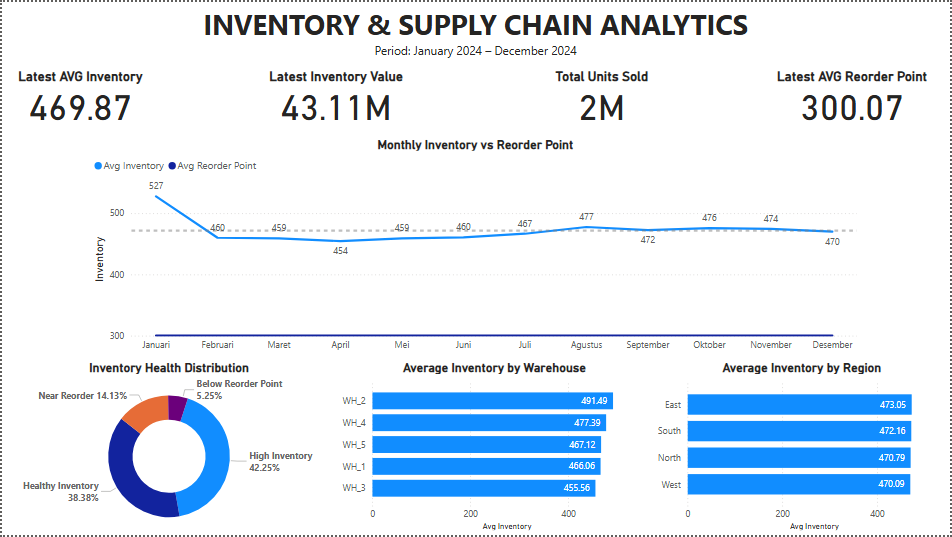

What the dashboard file says about the page in this screenshot:
{"tool":"powerbi","page":{"name":"Inventory Overview","canvas":[1280,720],"ordinal":0},"visuals":[{"type":"textbox","box":[0,0,1280,83],"z":0},{"type":"card","title":"Latest AVG Inventory","fields":{"Values":["retail_sales vw_inventory_summary.Latest AVG Inventory"]},"box":[8.9,72.7,192.9,107.1],"z":1000},{"type":"card","title":"Latest Inventory Value","fields":{"Values":["retail_sales vw_inventory_summary.Latest Inventory Value"]},"box":[334.6,72.7,232.9,107.1],"z":2000},{"type":"card","title":"Total Units Sold","fields":{"Values":["Sum(retail_sales vw_inventory_summary.Total Units Sold)"]},"box":[693.8,72.4,234.9,106.9],"z":3000},{"type":"card","title":"Latest AVG Reorder Point","fields":{"Values":["retail_sales vw_inventory_summary.Latest AVG Reorder Points"]},"box":[1027.1,72.4,243.3,106.9],"z":4000},{"type":"lineChart","title":"Monthly Inventory vs Reorder Point","fields":{"Y":["Avg(retail_sales vw_inventory_summary.AVG Inventory)","Avg(retail_sales vw_inventory_summary.AVG Reorder Points)"],"Category":["retail_sales vw_inventory_summary.Month.Variasi.Hierarki Tanggal.Bulan"]},"box":[118.6,177.1,1041.4,304.3],"z":5000},{"type":"donutChart","title":"Inventory Health Distribution","fields":{"Category":["retail_sales vw_inventory_status.Inventory Status"],"Y":["Sum(retail_sales vw_inventory_status.Jumlah)"]},"box":[0,483.9,451.5,236.3],"z":6000},{"type":"clusteredBarChart","title":"Average Inventory by Warehouse","fields":{"Category":["retail_sales vw_warehouse_summary.Warehouse ID"],"Y":["Avg(retail_sales vw_warehouse_summary.AVG Inventory)"]},"box":[451.5,483.9,423.4,236.3],"z":7000},{"type":"clusteredBarChart","title":"Average Inventory by Region","fields":{"Category":["retail_sales vw_region_summary.Region"],"Y":["Avg(retail_sales vw_region_summary.AVG Inventory)"]},"box":[874.9,483.9,405.1,236.3],"z":8000}]}

Visuals, with their boxes in screenshot pixels (x1, y1, x2, y2), scaled from the page's 1280x720 canvas onto the 952x537 screenshot:
textbox: <bbox>0, 0, 951, 62</bbox>
"Latest AVG Inventory" card: <bbox>7, 54, 150, 134</bbox>
"Latest Inventory Value" card: <bbox>249, 54, 422, 134</bbox>
"Total Units Sold" card: <bbox>516, 54, 691, 134</bbox>
"Latest AVG Reorder Point" card: <bbox>764, 54, 945, 134</bbox>
"Monthly Inventory vs Reorder Point" lineChart: <bbox>88, 132, 863, 359</bbox>
"Inventory Health Distribution" donutChart: <bbox>0, 361, 336, 536</bbox>
"Average Inventory by Warehouse" clusteredBarChart: <bbox>336, 361, 651, 536</bbox>
"Average Inventory by Region" clusteredBarChart: <bbox>651, 361, 951, 536</bbox>
